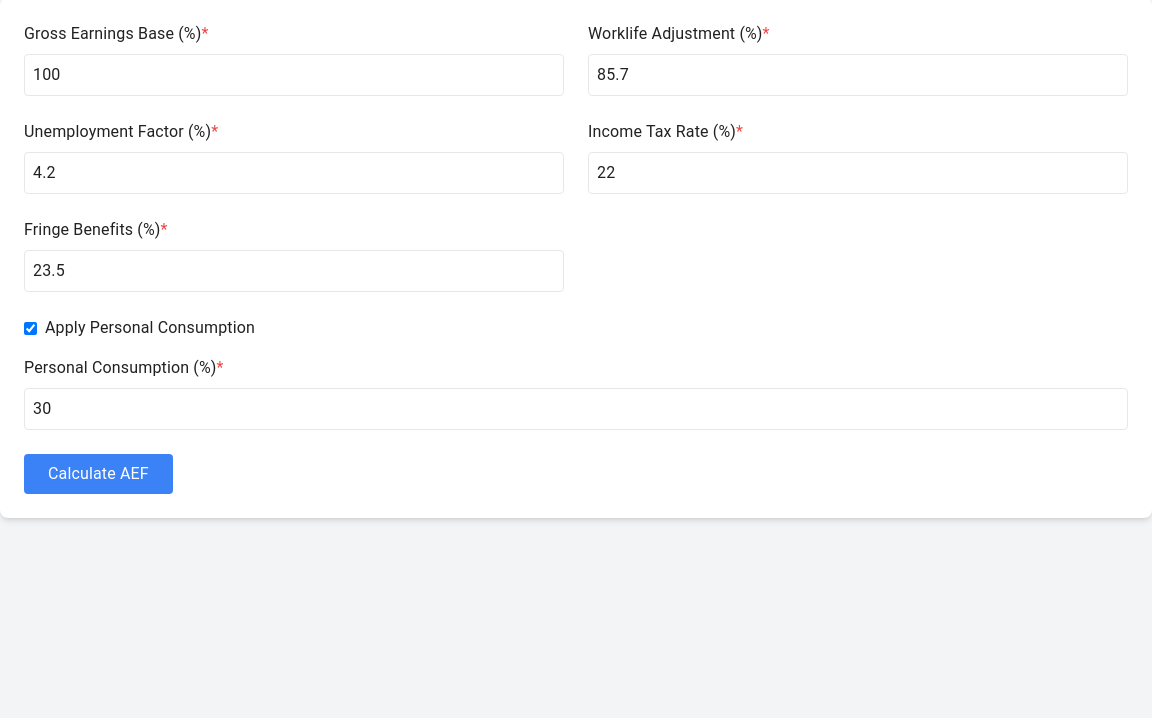
Test: AEF Calculator › handles decimal inputs correctly
Replace the text in the number field labelled "Gross Earnings Base (%)*" with "50.5". click: [294, 75]
box: 24,54 -> 564,96
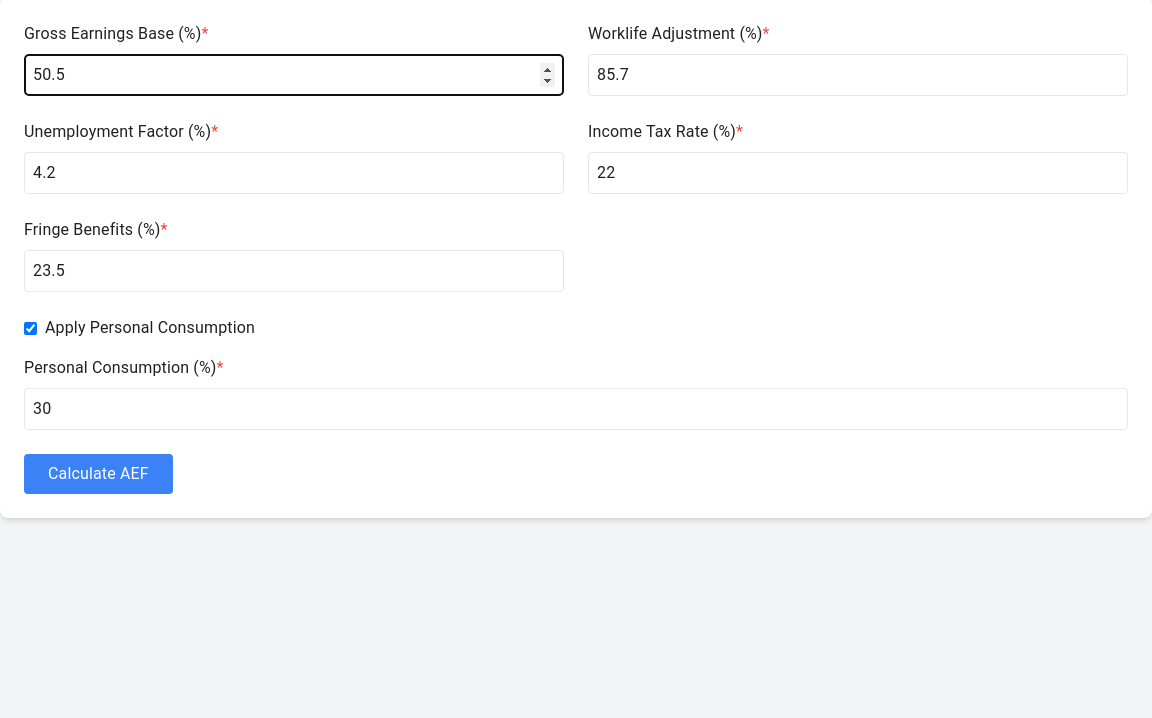
Click the button "Calculate AEF". click: [98, 474]
box: 24,454 -> 173,494
(page scrolled)
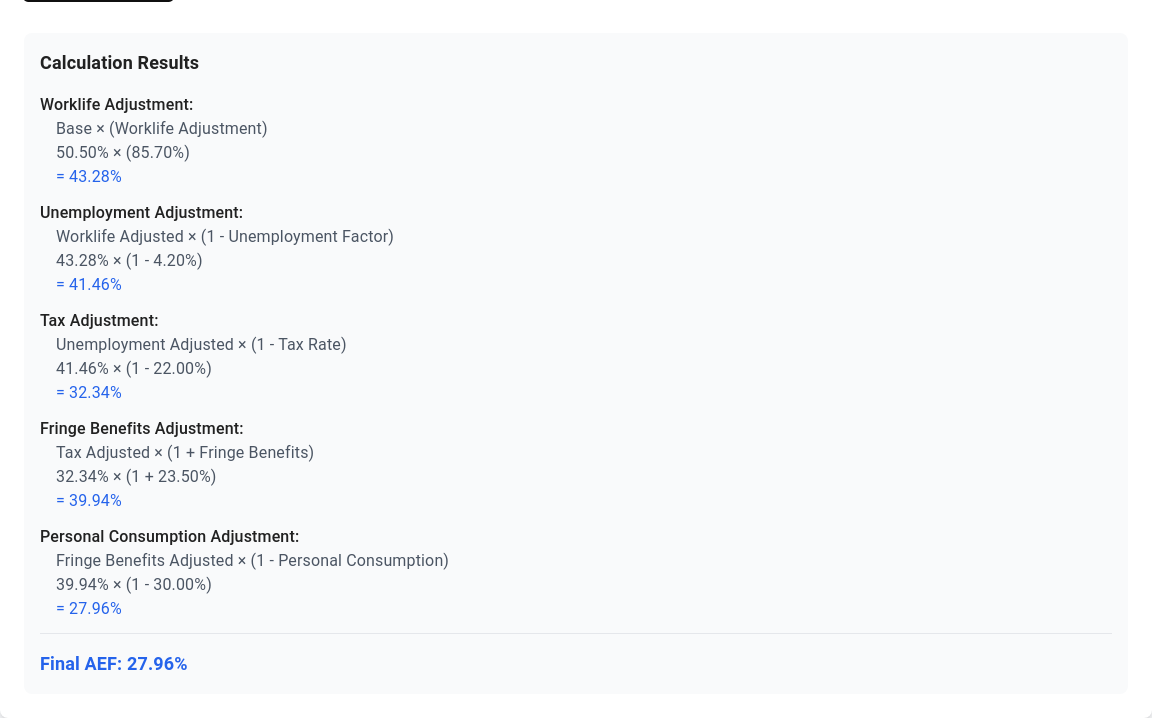
Expected: the element "Calculation Results" is shown
